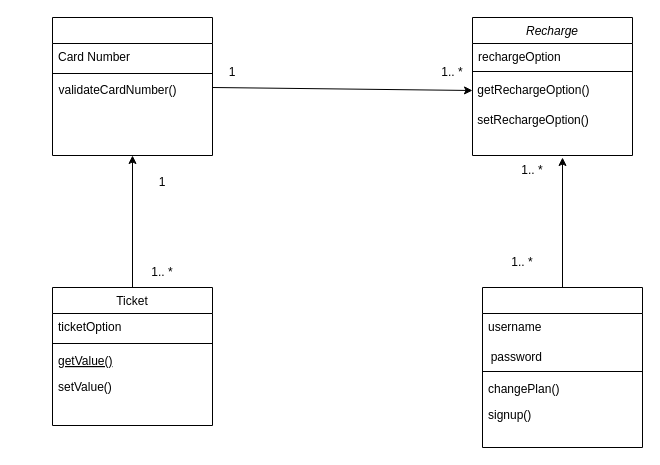
The diagram is 660 pixels wide and 465 high, and some of its shapes have lost their labels. The box of each missing label's shape, as (x1, y1, x2, y2) in pixels:
Admin: (482, 286, 642, 448)
CardChecker: (52, 16, 212, 156)
